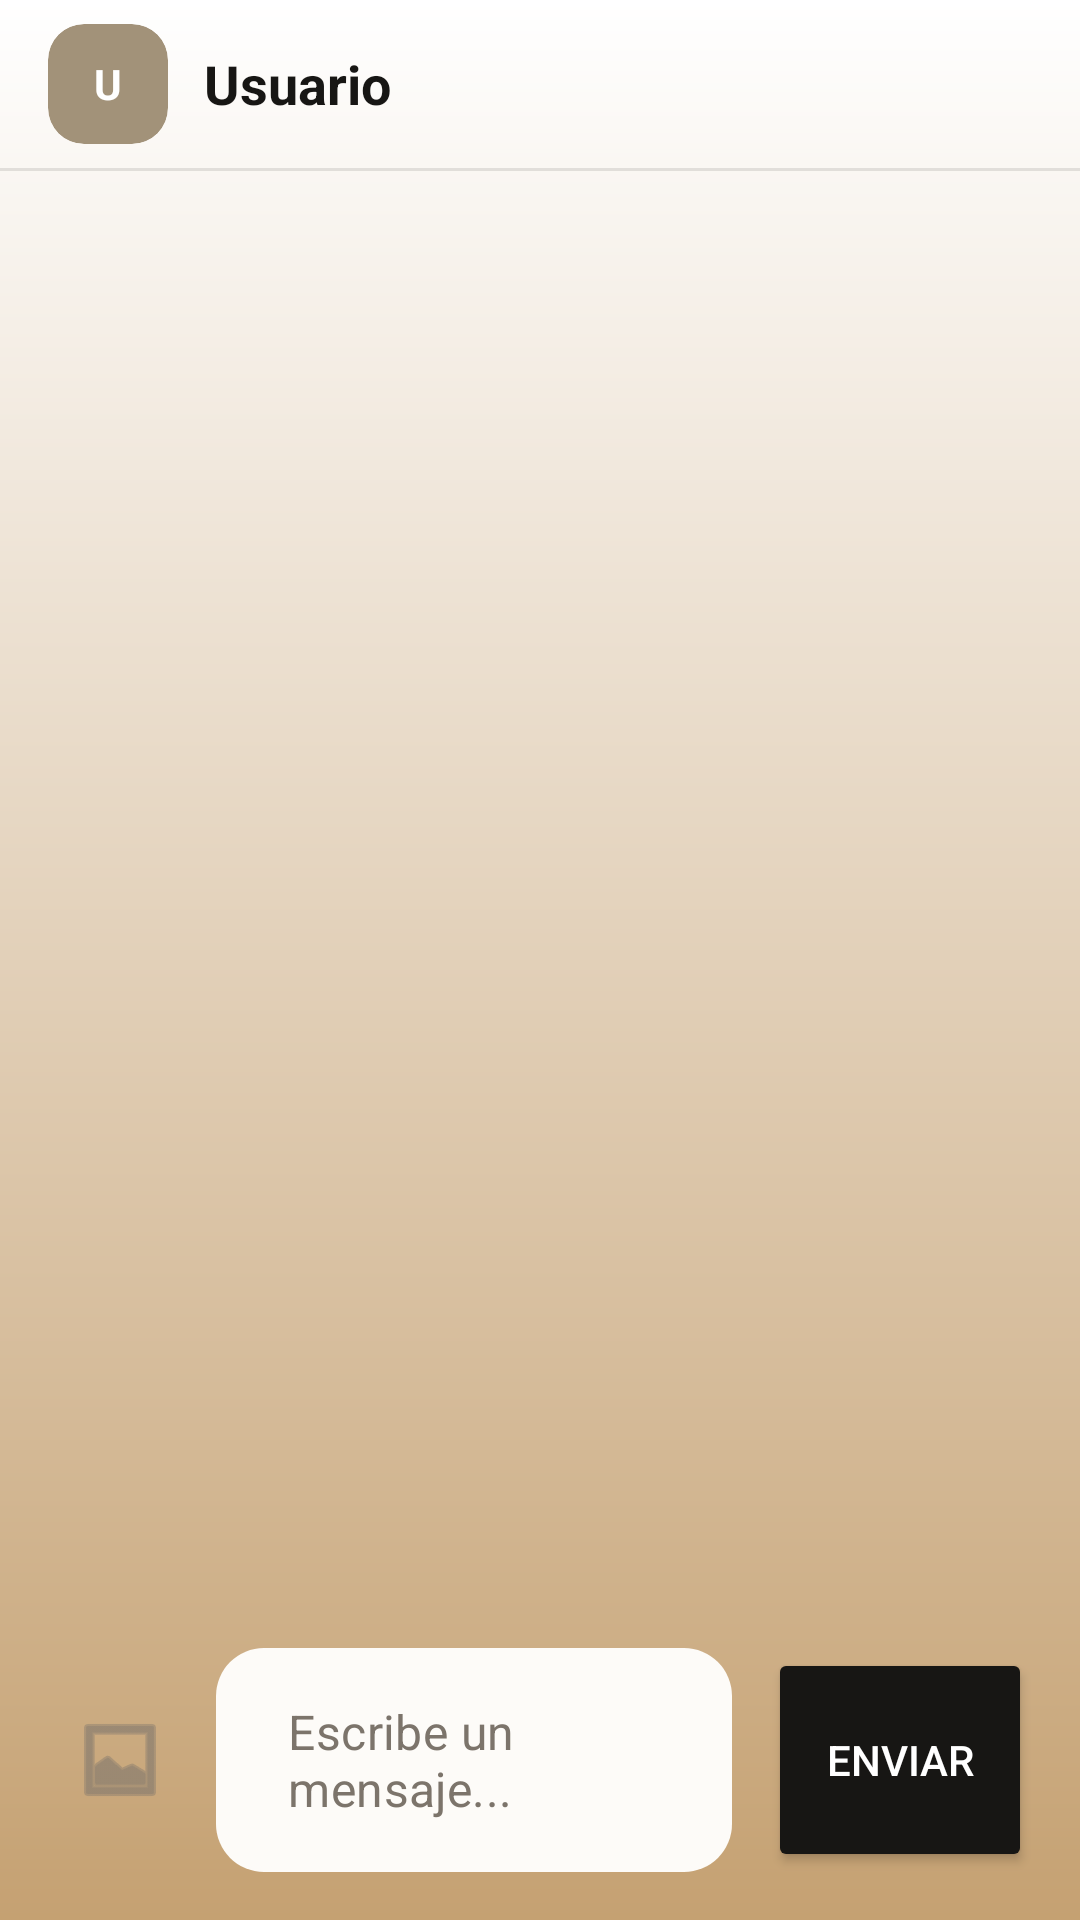

Screen size 1080w x 1920h. Icon name, then its center in pixels as [x,y]:
gallery: [120,1760]
